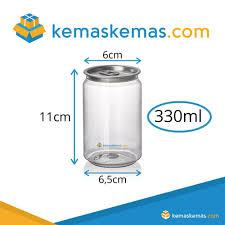BIODEGRADABLE: (76, 53, 154, 177)
